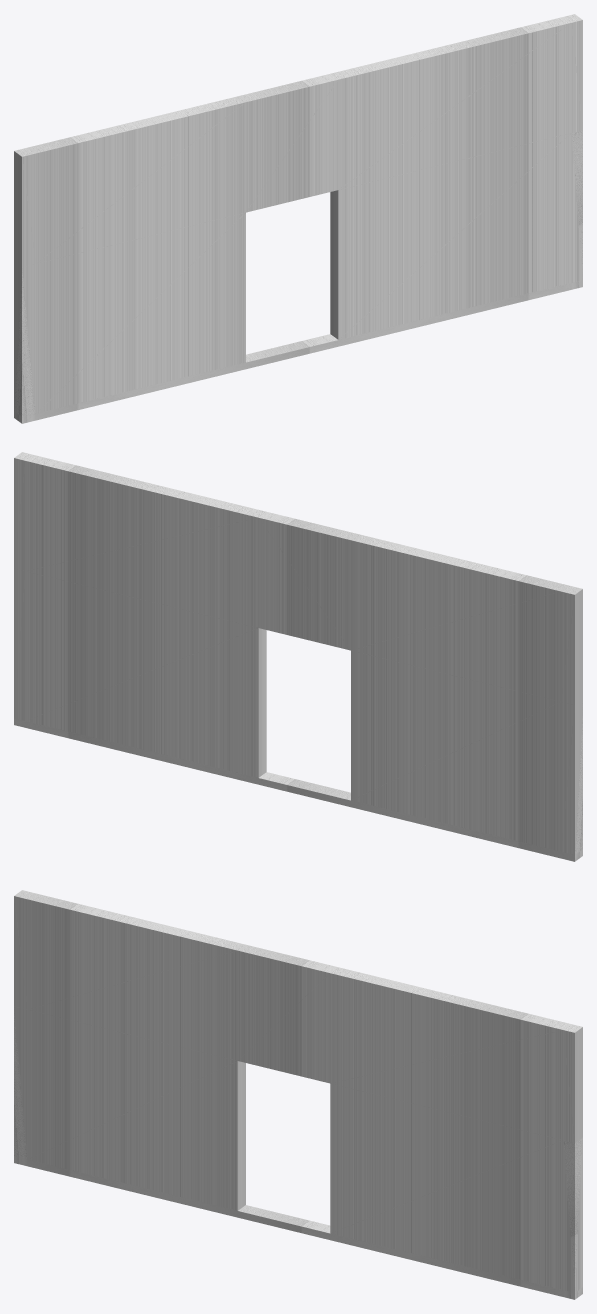
The model's file is murPorte.fbx.
The picture shows the model from 3 angles, top to bottom: view 1: azimuth 30°, elevation 25°; view 2: azimuth 150°, elevation 25°; view 3: azimuth 330°, elevation 25°; orthographic projection.
Visible parts, largest first — view 1: msh_mûr_porte; view 2: msh_mûr_porte; view 3: msh_mûr_porte.
Boxes of the visible parts, x1,y1,x2,y2 form: msh_mûr_porte: (14,14,582,423); msh_mûr_porte: (14,452,582,861); msh_mûr_porte: (14,890,582,1299).
Size of the model in its own units: 55.19 by 25.11 by 1.39.
Materials: 1 (1 with a texture image).
